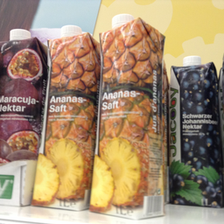juice: (89, 16, 167, 220), (30, 26, 98, 215), (167, 56, 224, 207), (1, 29, 47, 179)
